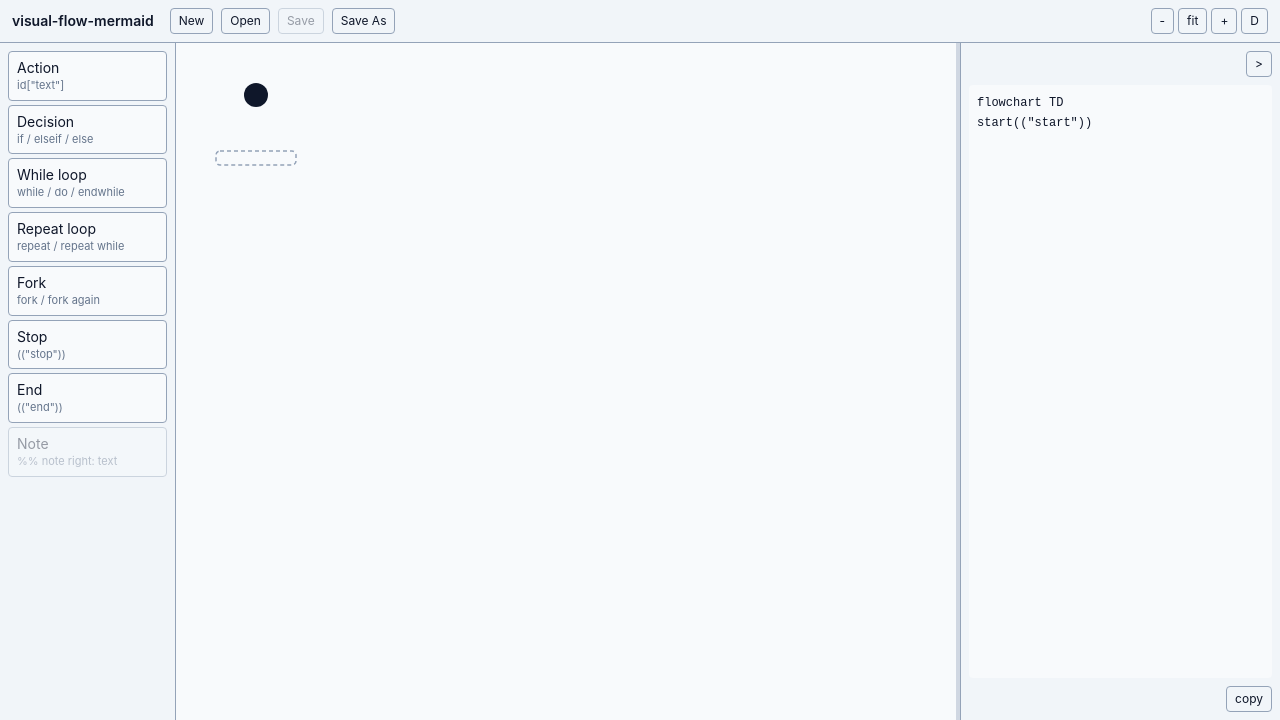
Scenario: clicking the canvas pane itself (not any shape) clears the selection
The image size is (1280, 720).
Click the button "Action id[\"text\"]" at [88, 76], box [8,51,167,101]
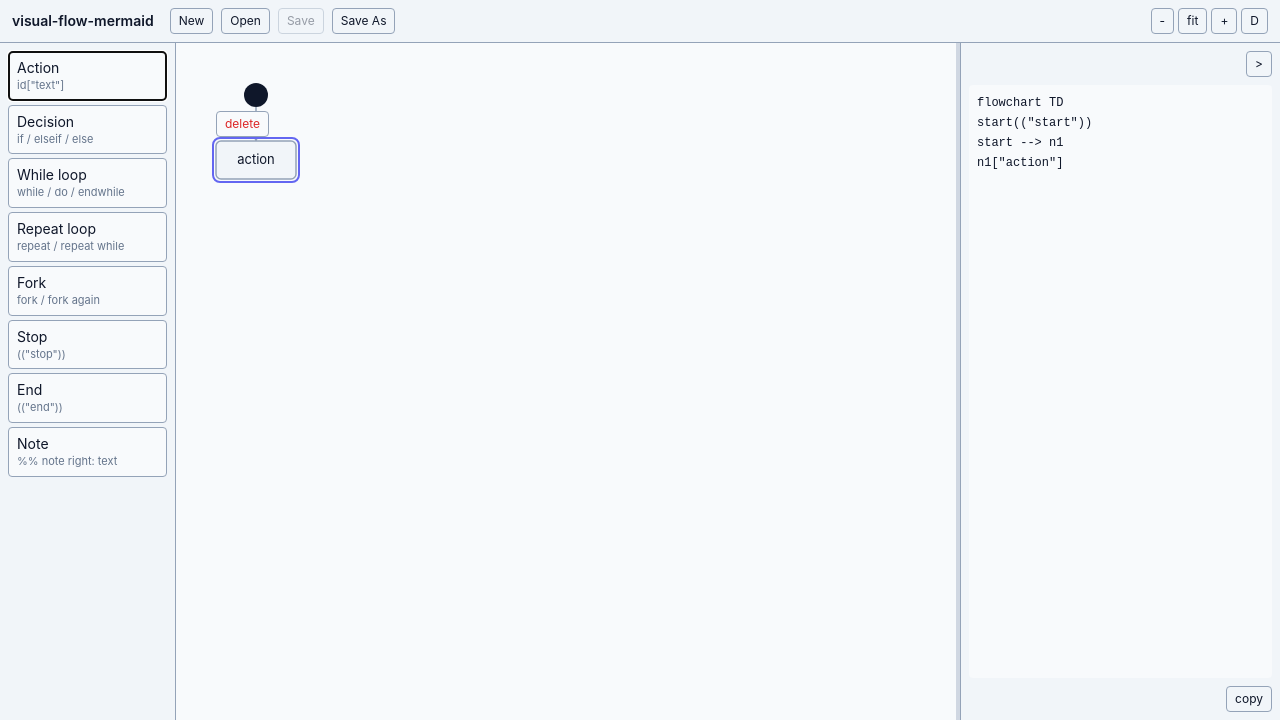
Check: the button "delete" is shown, box [216,111,269,137]
Click the element named "canvas" at [256, 143], box [200,67,312,219]
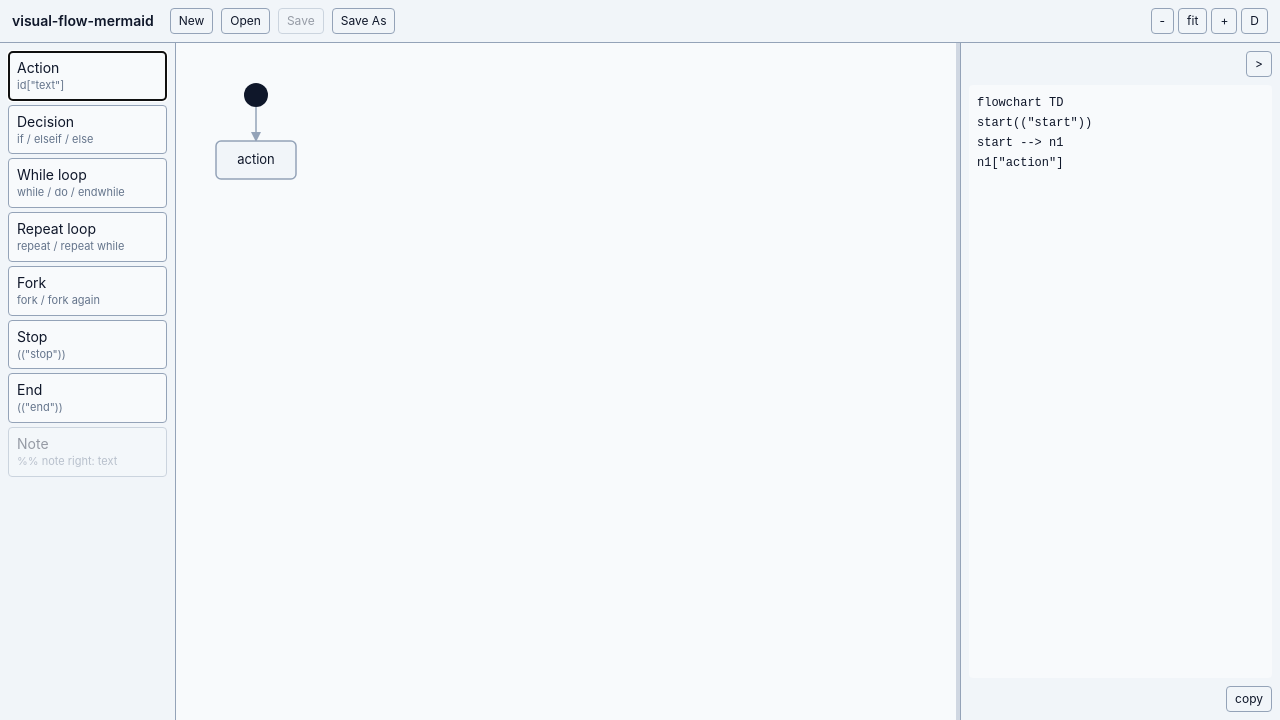
Check: the button "delete" is gone
